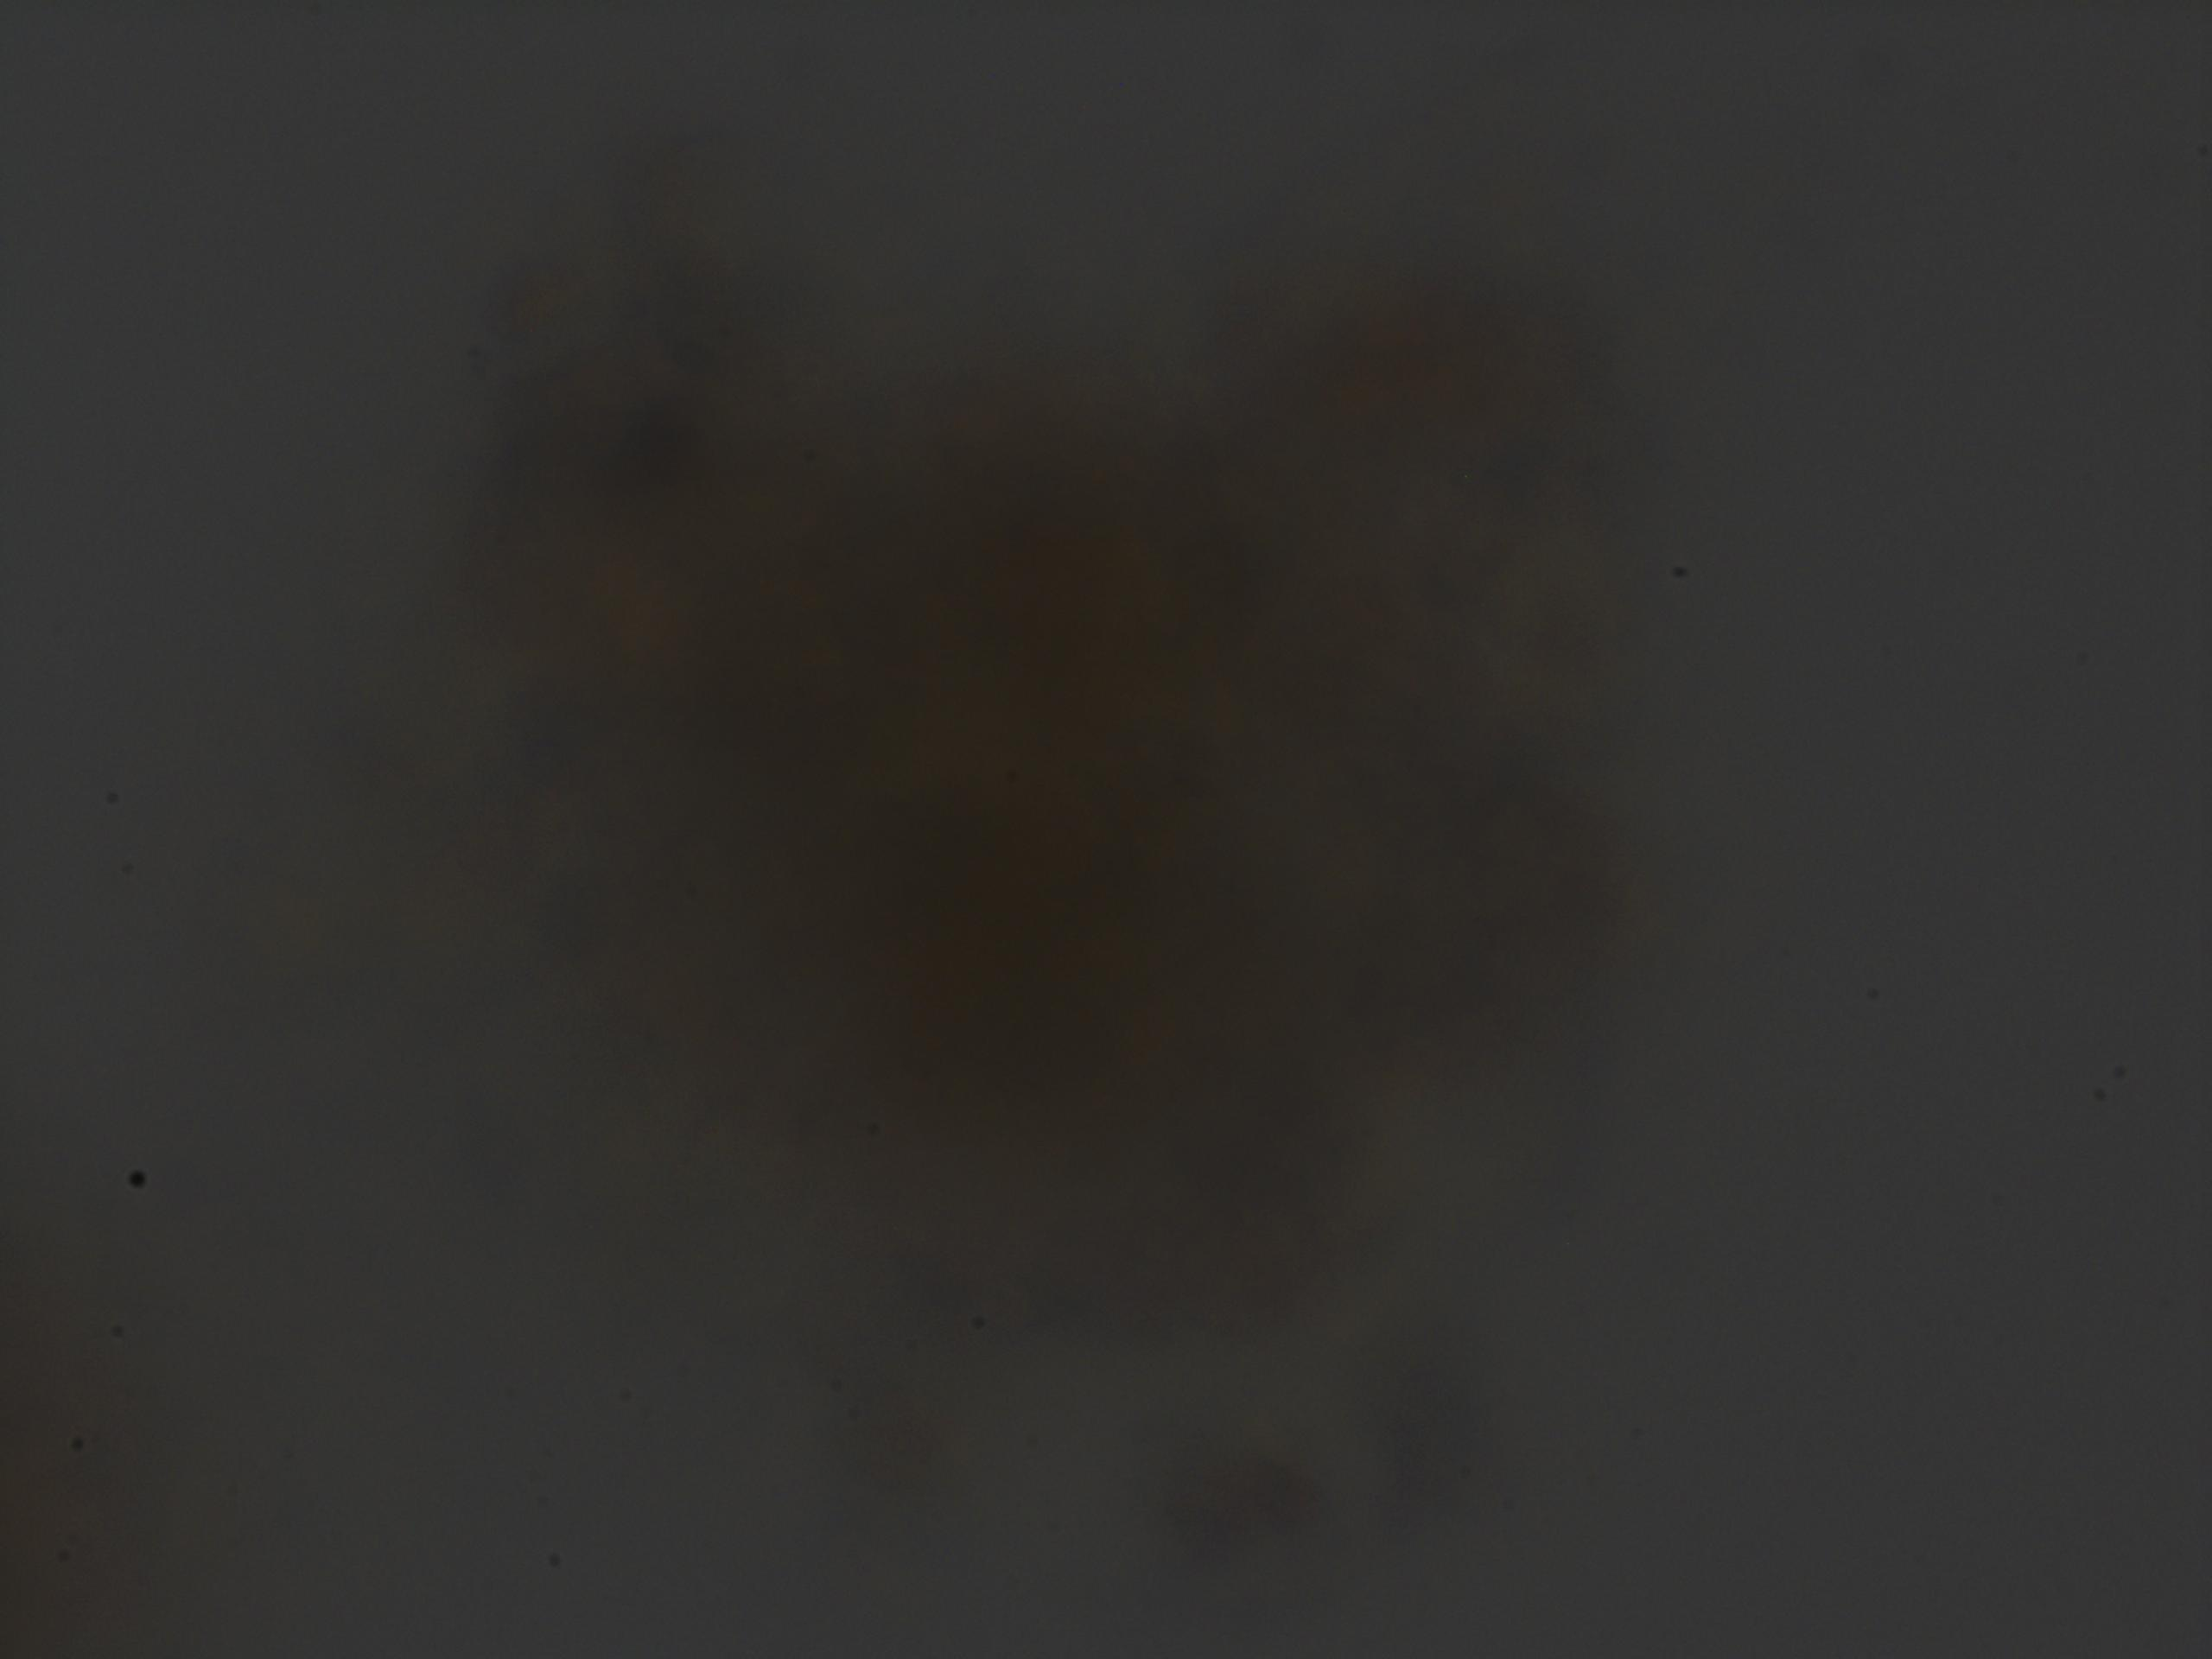spherical_floc: (432, 230, 1683, 1401)
